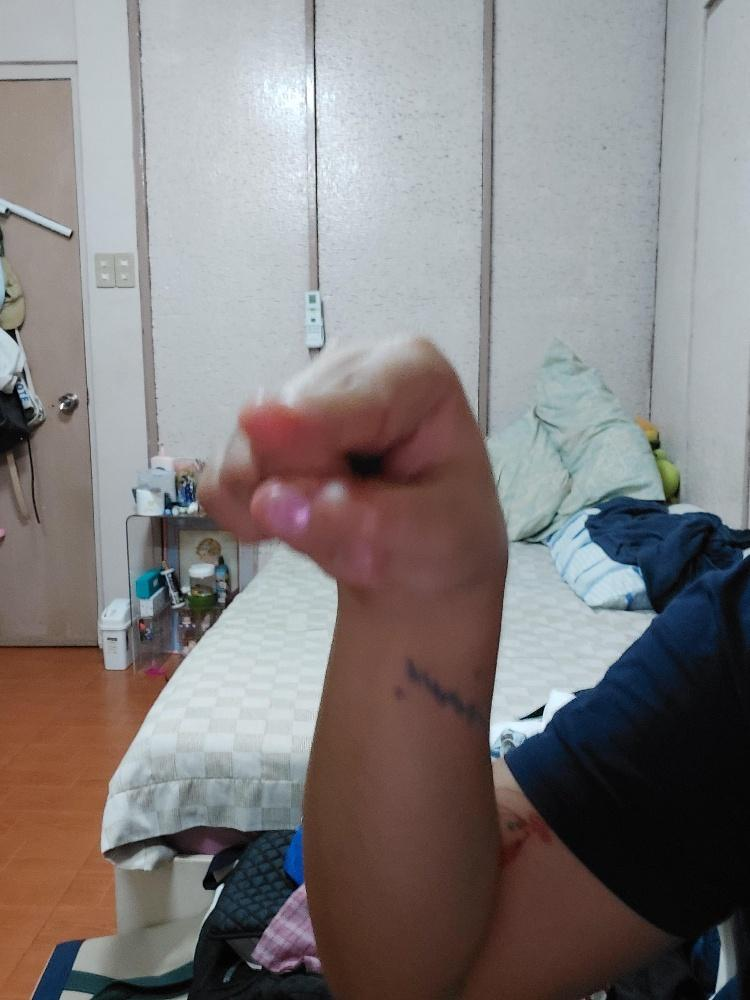z: (195, 330, 509, 602)
